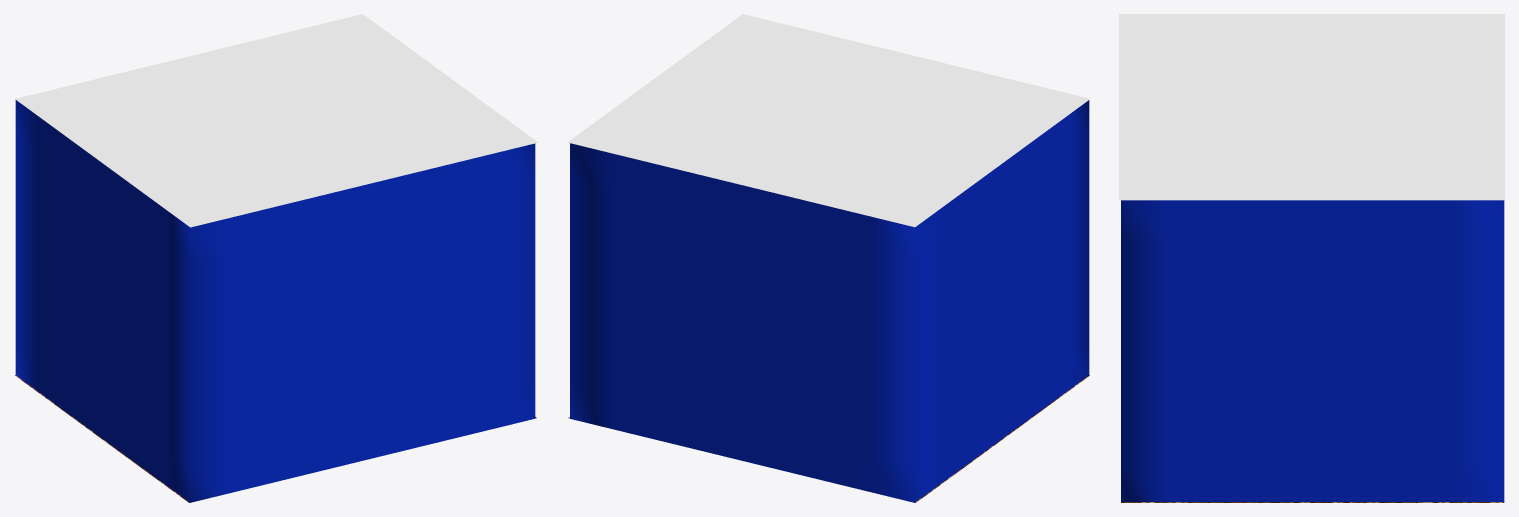
3 views of the same model, side by side, from view 1: azimuth 30°, elevation 25°; view 2: azimuth 150°, elevation 25°; view 3: azimuth 270°, elevation 25° (orthographic). The views are drawn at different scales.
Parts seen in each view (by area): view 1: Murs, Plafond; view 2: Murs, Plafond; view 3: Murs, Plafond.
Boxes of the visible parts, left/top/right/bottom form: Murs: left=15, top=100, right=535, bottom=502; Plafond: left=15, top=14, right=537, bottom=227; Murs: left=570, top=100, right=1089, bottom=502; Plafond: left=567, top=14, right=1090, bottom=227; Murs: left=1121, top=200, right=1504, bottom=501; Plafond: left=1119, top=14, right=1504, bottom=200.
Size of the model in its own units: 8.2 by 6.21 by 7.16.
Materials: 7 (2 with a texture image).
